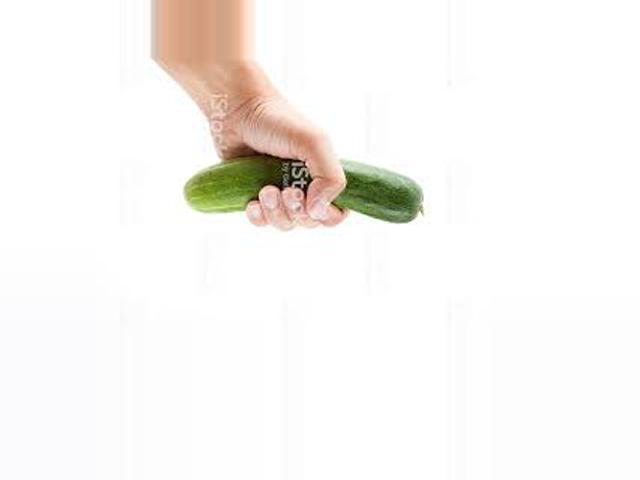cucumber: (184, 154, 422, 225)
